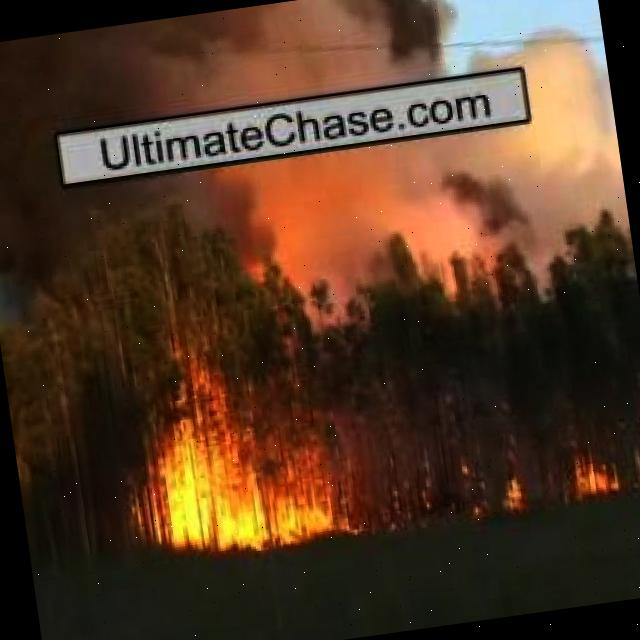fire: (138, 391, 353, 562), (566, 451, 626, 504), (493, 476, 532, 510)
